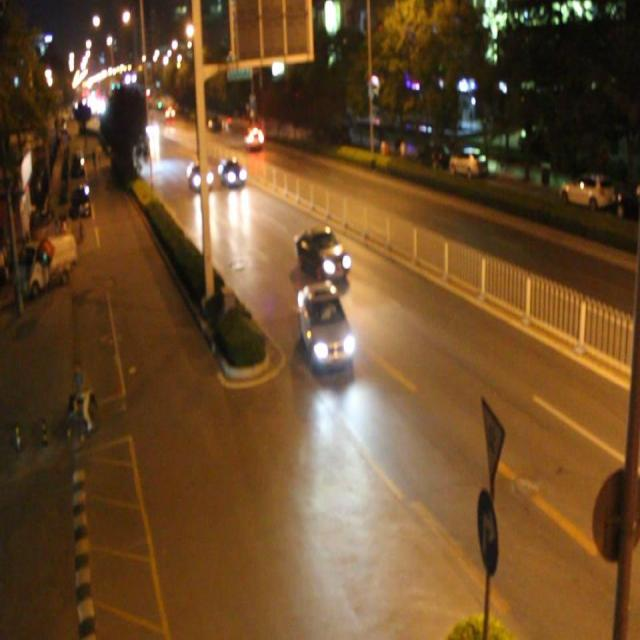car: (296, 282, 353, 366), (295, 224, 348, 283), (218, 154, 244, 189), (187, 159, 214, 191), (242, 122, 264, 148)
